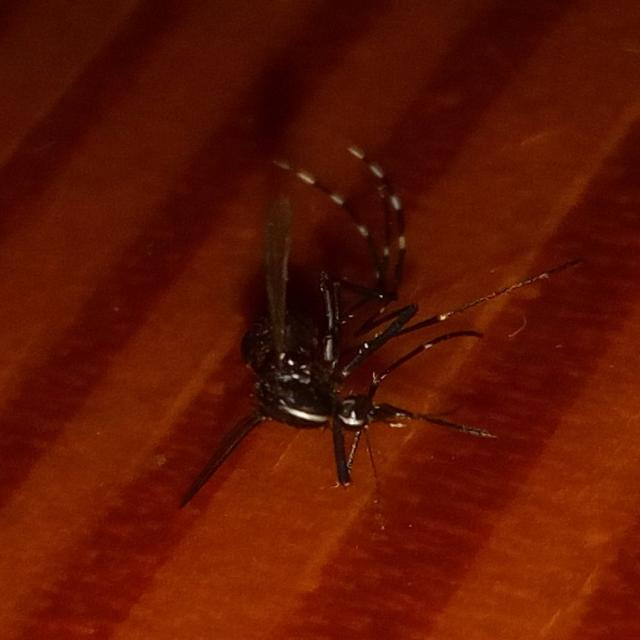albopictus: (183, 127, 556, 504)
